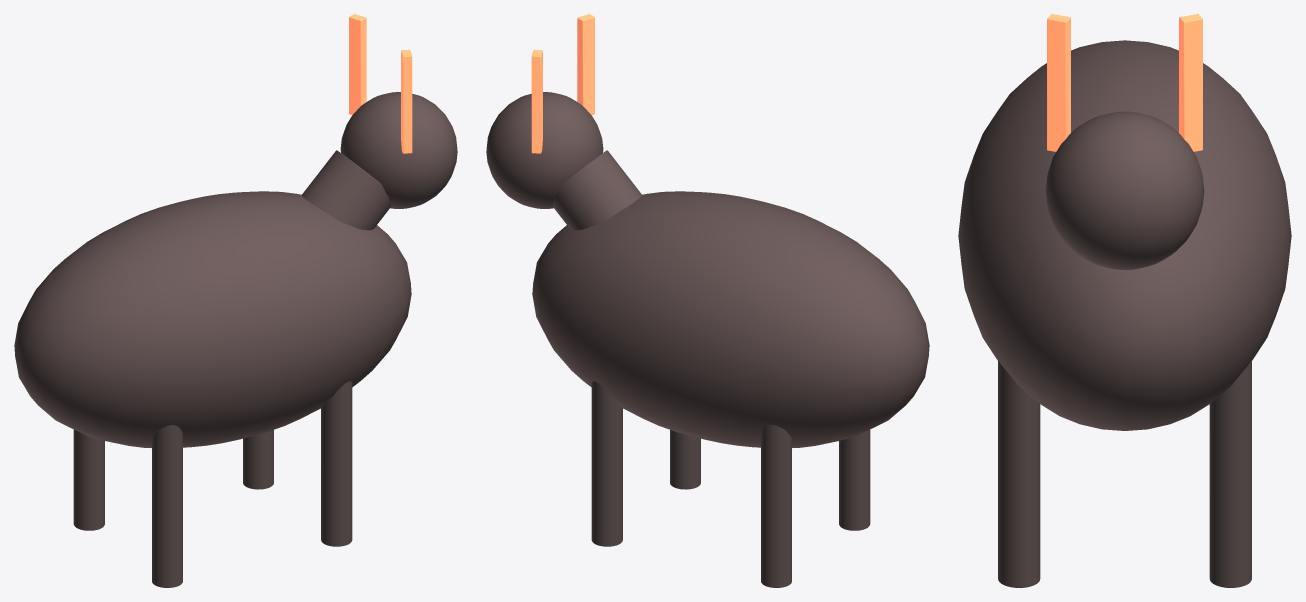
File: SM_ANM_IronstagStalker.fbx
The picture shows the model from 3 angles, left to right: view 1: azimuth 30°, elevation 25°; view 2: azimuth 150°, elevation 25°; view 3: azimuth 270°, elevation 25°; orthographic projection. The views are drawn at different scales.
Parts seen in each view (by area): view 1: SM_ANM_IronstagStalker; view 2: SM_ANM_IronstagStalker; view 3: SM_ANM_IronstagStalker.
Part boxes in pixels (box(x1,y1,x2,y2)): SM_ANM_IronstagStalker: box(14, 14, 457, 587); SM_ANM_IronstagStalker: box(486, 14, 929, 587); SM_ANM_IronstagStalker: box(958, 14, 1291, 587).
Size of what is drawn, in the model's own units: 2.52 by 2.58 by 1.26.
